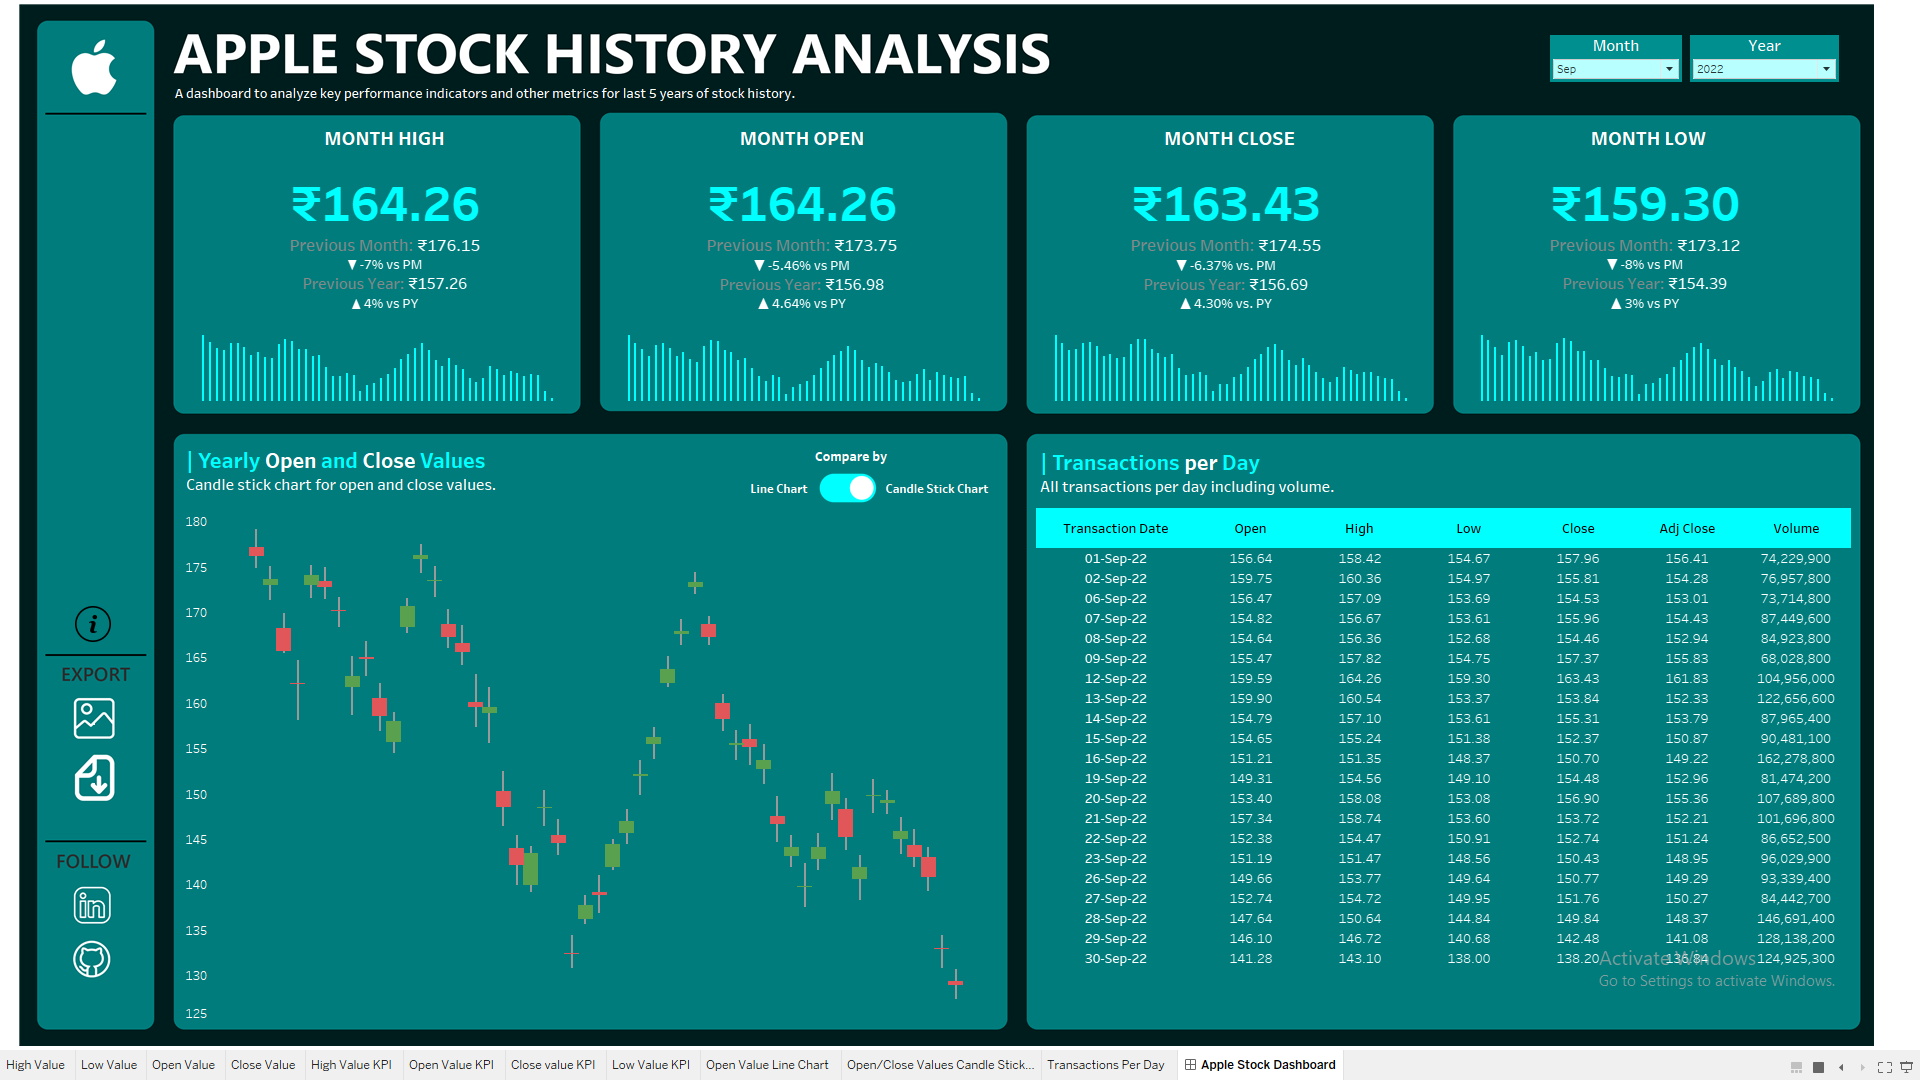

What the dashboard file says about the page in this screenshot:
{"tool":"tableau","page":{"name":"Apple Stock Dashboard","canvas":[1890,1050],"ordinal":0},"visuals":[{"type":"image","param":"D:/SHIVAM/Imarticus-PGA/Self-Study (Extra)/Tableau/Stocks Dashboard using Web Sc","box":[0,0,1890,1050]},{"type":"parameter","param":"[Parameters].[Parameter 1]","box":[1531,31,140,55]},{"type":"parameter","param":"[Parameters].[Parameter 2]","box":[1671,31,157,55]},{"type":"text","box":[157,78,876,30]},{"type":"text","box":[166,120,407,34]},{"type":"text","box":[573,120,428,34]},{"type":"text","box":[1001,120,427,34]},{"type":"text","box":[1428,120,411,34]},{"type":"worksheet","title":"High Value","mark":"Automatic","box":[166,154,407,174]},{"type":"worksheet","title":"Open Value","mark":"Automatic","box":[573,154,428,174]},{"type":"worksheet","title":"Close Value","mark":"Automatic","box":[1001,154,419,174]},{"type":"worksheet","title":"Low Value","mark":"Automatic","box":[1420,154,419,174]},{"type":"worksheet","title":"High Value KPI","mark":"Bar","rows":["Calculation_249105372538839061"],"cols":["Date"],"box":[166,328,393,77]},{"type":"blank","box":[559,328,32,77]},{"type":"worksheet","title":"Open Value KPI","mark":"Bar","rows":["Calculation_726768408365883395"],"cols":["Date"],"box":[591,328,395,77]},{"type":"blank","box":[986,328,32,77]},{"type":"worksheet","title":"Close value KPI","mark":"Bar","rows":["CY Open Values (copy)_726768408369627141"],"cols":["Date"],"box":[1018,328,394.5,77]},{"type":"blank","box":[1412.5,328,32,77]},{"type":"worksheet","title":"Low Value KPI","mark":"Bar","rows":["CY High Value (copy)_726768408374317064"],"cols":["Date"],"box":[1444.5,328,394.5,77]},{"type":"worksheet","title":"Open Value Line Chart","mark":"Line","rows":["Calculation_726768408365883395"],"cols":["Date"],"box":[167,441,816,581]},{"type":"worksheet","title":"Open/Close Values Candle Stick Chart","mark":"GanttBar","rows":["Calculation_726768408365883395","Calculation_249105372538839061"],"cols":["Date"],"box":[167,441,816,581]},{"type":"text","box":[786,441,100,30]},{"type":"worksheet","title":"Transactions Per Day","mark":"Automatic","rows":["Calculation_121034258635927553"],"box":[1021,443,815,577]},{"type":"text","box":[720,466,88,45]},{"type":"blank","box":[808,466,55,45]},{"type":"text","box":[863,466,118,45]},{"type":"dashboard-object","box":[792,472,81,31]},{"type":"worksheet","title":"Info","mark":"Shape","rows":["Calculation_194499228829552641"],"box":[52,601,52,45]},{"type":"dashboard-object","box":[51,691,55,57]},{"type":"dashboard-object","box":[51,748,55,52]},{"type":"image","param":"D:/SHIVAM/Imarticus-PGA/Self-Study (Extra)/Tableau/Stocks Dashboard using Web Sc","box":[51,881,54,51.5]},{"type":"image","param":"D:/SHIVAM/Imarticus-PGA/Self-Study (Extra)/Tableau/Stocks Dashboard using Web Sc","box":[51,932.5,54,51.5]}]}

Visuals, with their boxes on the page's 1890x1050 design canvas (x1, y1, x2, y2). These are canvas units, not pixel positions in the 1920x1080 screenshot, which may show the page scaled, cropped or inside an application window:
image: <box>0,0,1890,1050</box>
parameter: <box>1531,31,1671,86</box>
parameter: <box>1671,31,1828,86</box>
text: <box>157,78,1033,108</box>
text: <box>166,120,573,154</box>
text: <box>573,120,1001,154</box>
text: <box>1001,120,1428,154</box>
text: <box>1428,120,1839,154</box>
"High Value" worksheet: <box>166,154,573,328</box>
"Open Value" worksheet: <box>573,154,1001,328</box>
"Close Value" worksheet: <box>1001,154,1420,328</box>
"Low Value" worksheet: <box>1420,154,1839,328</box>
"High Value KPI" worksheet (Bar marks): <box>166,328,559,405</box>
blank: <box>559,328,591,405</box>
"Open Value KPI" worksheet (Bar marks): <box>591,328,986,405</box>
blank: <box>986,328,1018,405</box>
"Close value KPI" worksheet (Bar marks): <box>1018,328,1412,405</box>
blank: <box>1412,328,1444,405</box>
"Low Value KPI" worksheet (Bar marks): <box>1444,328,1839,405</box>
"Open Value Line Chart" worksheet (Line marks): <box>167,441,983,1022</box>
"Open/Close Values Candle Stick Chart" worksheet (GanttBar marks): <box>167,441,983,1022</box>
text: <box>786,441,886,471</box>
"Transactions Per Day" worksheet: <box>1021,443,1836,1020</box>
text: <box>720,466,808,511</box>
blank: <box>808,466,863,511</box>
text: <box>863,466,981,511</box>
dashboard-object: <box>792,472,873,503</box>
"Info" worksheet (Shape marks): <box>52,601,104,646</box>
dashboard-object: <box>51,691,106,748</box>
dashboard-object: <box>51,748,106,800</box>
image: <box>51,881,105,932</box>
image: <box>51,932,105,984</box>
